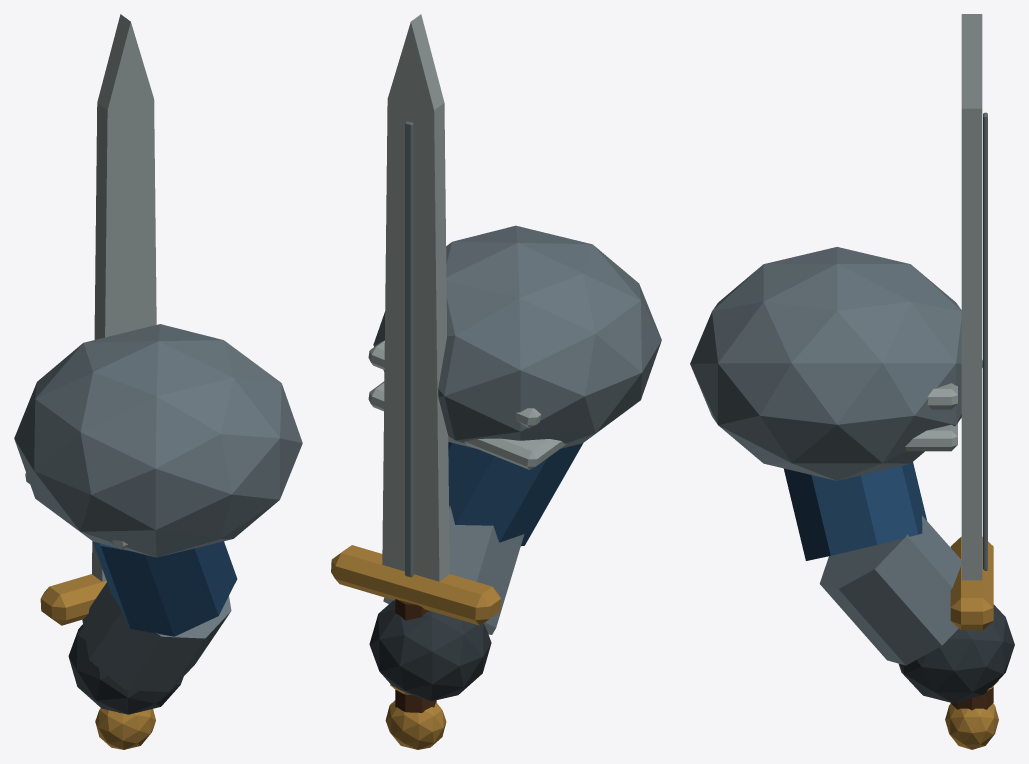
The model's file is ArmRight.glb.
3 renders of one model, left to right at view 1: azimuth 30°, elevation 25°; view 2: azimuth 150°, elevation 25°; view 3: azimuth 270°, elevation 25°, orthographic.
Visible parts, largest first — view 1: Sculpture; view 2: Sculpture; view 3: Sculpture.
Part boxes in pixels (x1,y1,x2,y2): Sculpture: (14,14,302,749); Sculpture: (331,14,661,749); Sculpture: (690,14,1014,749).
Size of the model in its own units: 0.47 by 1.32 by 0.53.
